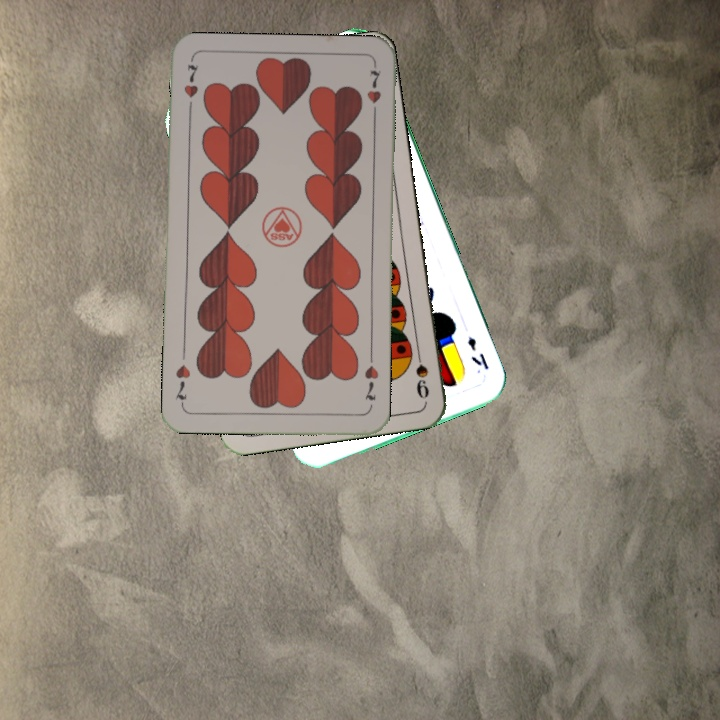EK: (463, 332, 492, 373)
H7: (179, 57, 201, 116), (360, 362, 381, 403)
S9: (411, 343, 432, 402)
